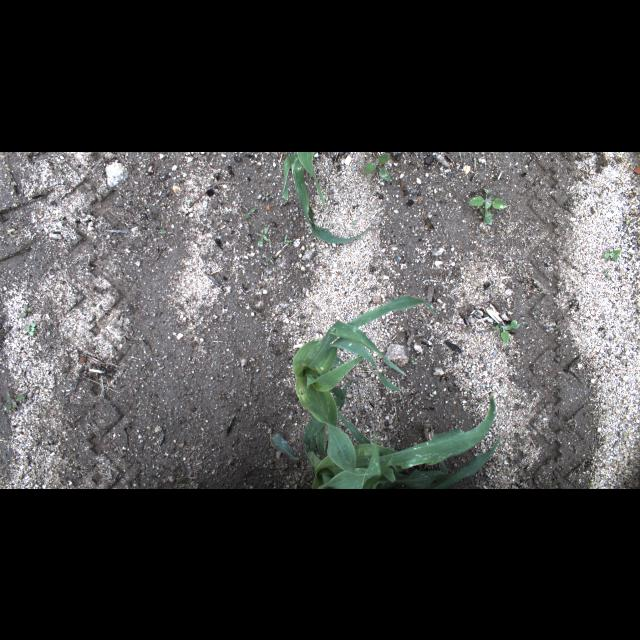crop: (269, 294, 436, 476), (310, 394, 502, 488), (282, 152, 368, 244)
weed: (468, 188, 508, 225), (364, 153, 391, 181), (493, 318, 522, 344), (4, 392, 26, 410), (255, 226, 269, 247), (604, 247, 620, 259), (479, 206, 489, 224), (20, 304, 32, 318), (24, 322, 36, 336), (242, 206, 255, 218), (262, 253, 274, 264), (13, 223, 23, 234), (261, 190, 269, 200), (602, 268, 610, 278), (283, 234, 291, 242), (622, 218, 630, 222)
